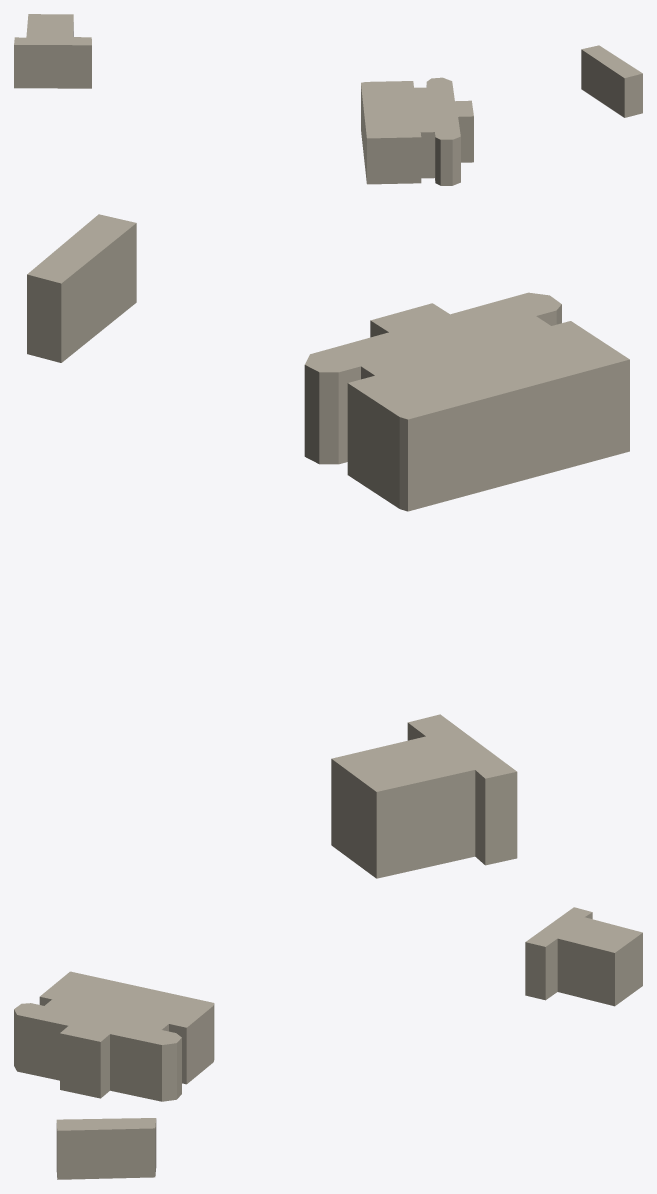
File: bormla_64_29_mid.glb
3 views of the same model, one above another, from view 1: azimuth 30°, elevation 25°; view 2: azimuth 150°, elevation 25°; view 3: azimuth 270°, elevation 25° (orthographic). The views are drawn at different scales.
Visible parts, largest first — view 1: geometry_0; view 2: geometry_0; view 3: geometry_0.
Boxes of the visible parts, x1,y1,x2,y2 form: geometry_0: (14,14,642,185); geometry_0: (27,214,629,878); geometry_0: (14,907,642,1179).
Bounding box in the file's own units: 116 × 17.58 × 123.
